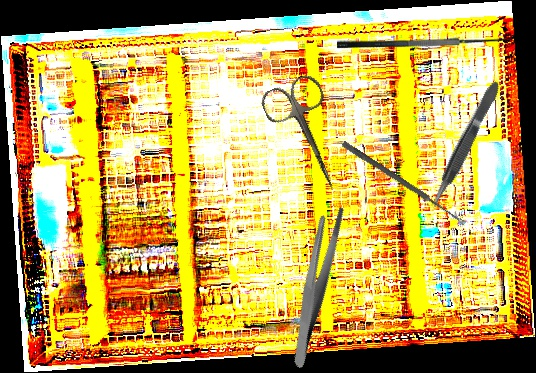Dressing Forceps: (252, 200, 379, 370)
Iris Scissors: (257, 71, 360, 202)
Spatula Surgical: (337, 26, 506, 49)
Surgical Spoon: (340, 140, 468, 227)
Tissue Forceps: (423, 78, 506, 213)
